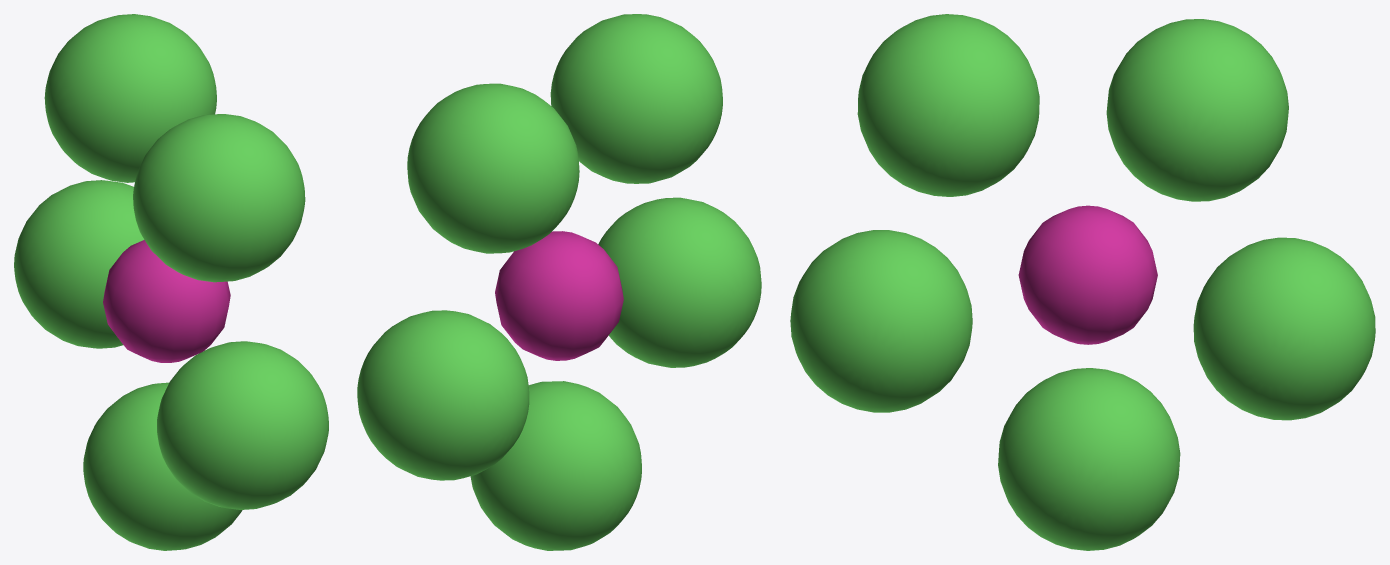
Rendered from Head3.fbx.
3 renders of one model, left to right at view 1: azimuth 30°, elevation 25°; view 2: azimuth 150°, elevation 25°; view 3: azimuth 270°, elevation 25°, orthographic. The views are drawn at different scales.
Parts seen in each view (by area): view 1: Head3Spheres2, Head3Sphere; view 2: Head3Spheres2, Head3Sphere; view 3: Head3Spheres2, Head3Sphere.
Part boxes in pixels (x1,y1,x2,y2): Head3Spheres2: (14,14,328,550); Head3Sphere: (103,240,230,362); Head3Spheres2: (357,14,761,550); Head3Sphere: (495,231,623,360); Head3Spheres2: (790,14,1375,550); Head3Sphere: (1018,205,1157,344).
Size of the model in its own units: 44 by 105 by 107.
